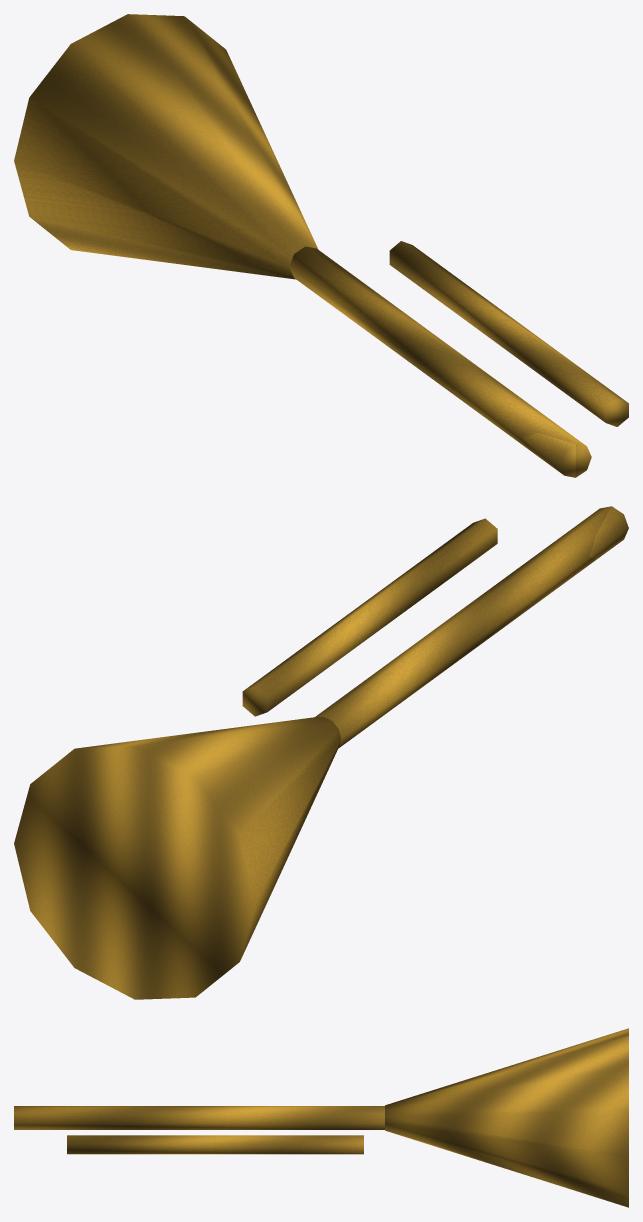
File: trompeta.obj
3 views of the same model, one above another, from view 1: azimuth 30°, elevation 25°; view 2: azimuth 150°, elevation 25°; view 3: azimuth 270°, elevation 25° (orthographic). The views are drawn at different scales.
Visible parts, largest first — view 1: trompeta; view 2: trompeta; view 3: trompeta.
Boxes of the visible parts, x1=… form: trompeta: x1=14, y1=14, x2=628, y2=477; trompeta: x1=14, y1=506, x2=628, y2=999; trompeta: x1=14, y1=1028, x2=628, y2=1207.
Bounding box in the file's own units: 0.17 × 0.17 × 0.58.
Materials: 1 (1 with a texture image).
